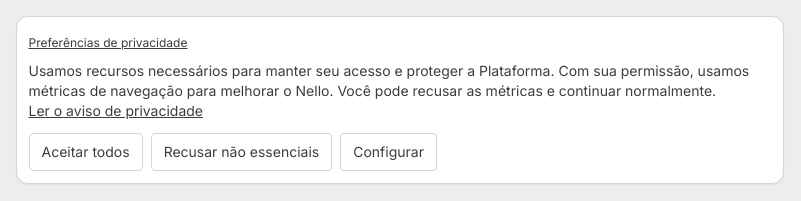
Test: offers a first-visit refusal and remembers it without granting metrics
Expected: the button "Aceitar todos" is shown, [28,133,143,171]
Step 1. Click the button "Recusar não essenciais" → (241, 152), box [151,133,332,171]
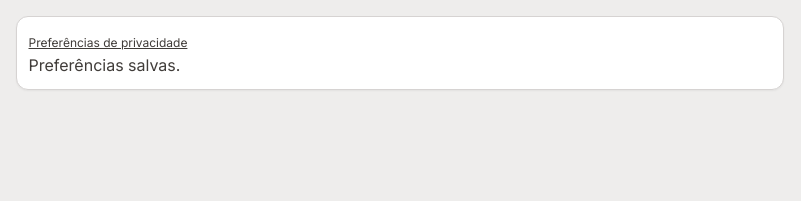
Result: the button "Aceitar todos" is gone
